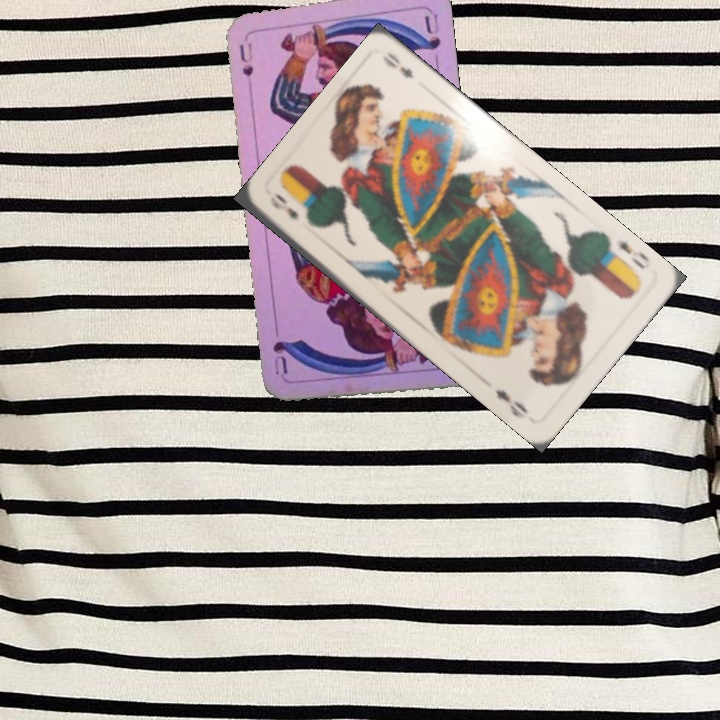EO: (604, 235, 650, 275), (265, 190, 301, 223)
SU: (235, 32, 256, 79)
